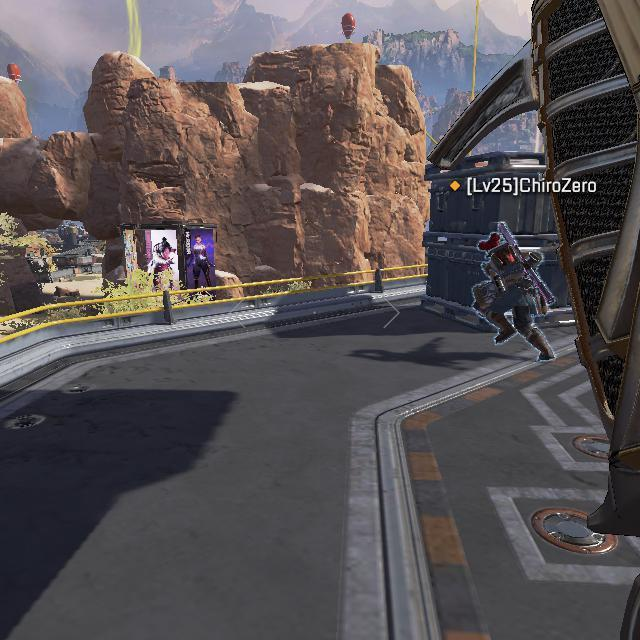avatar: (469, 228, 545, 345)
